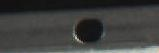holes: (72, 16, 105, 42)
